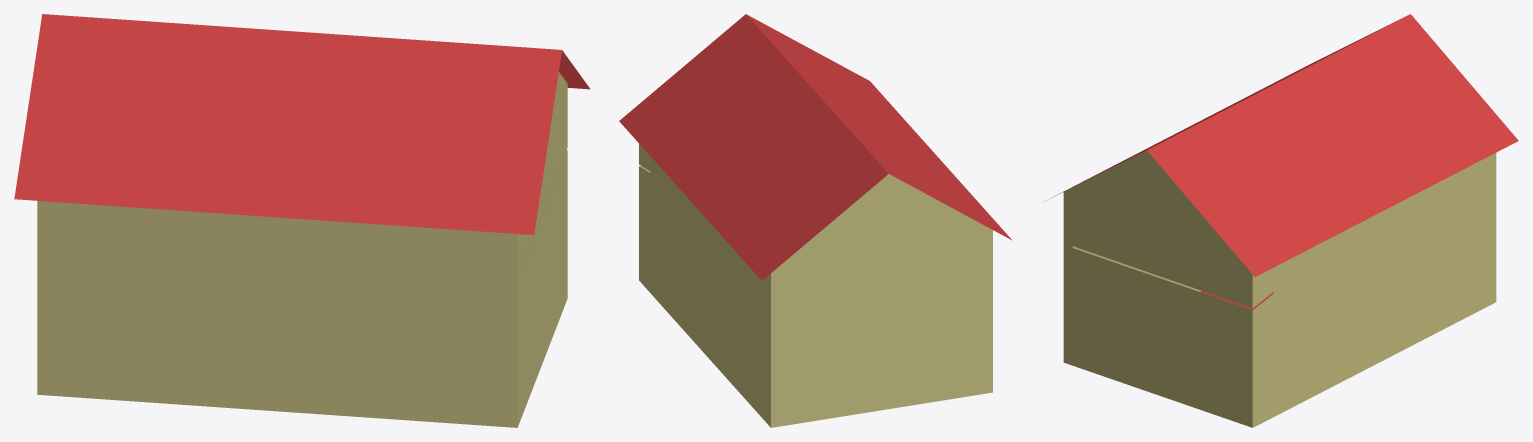
The picture shows the model from 3 angles, left to right: view 1: azimuth 30°, elevation 25°; view 2: azimuth 150°, elevation 25°; view 3: azimuth 270°, elevation 25°; orthographic projection. The views are drawn at different scales.
Size of the model in its own units: 23.4 by 22.47 by 12.96.
